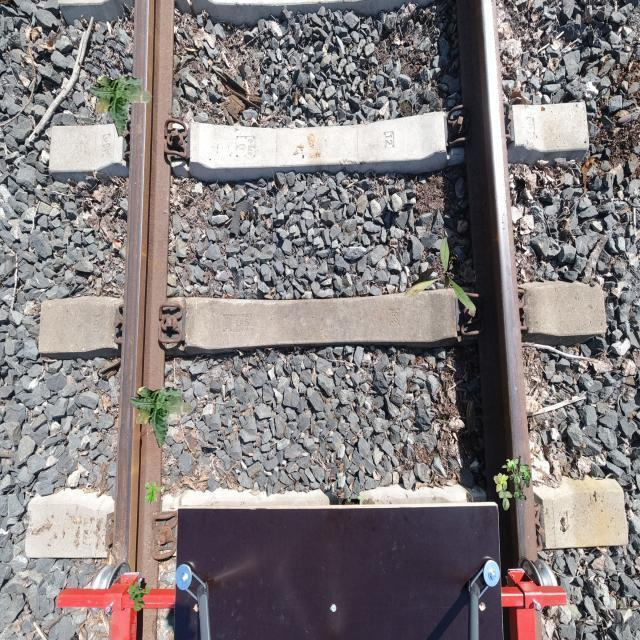Plant: (404, 237, 476, 312), (130, 387, 194, 449), (89, 75, 152, 137), (494, 456, 532, 511), (127, 581, 151, 612), (145, 481, 162, 505)
